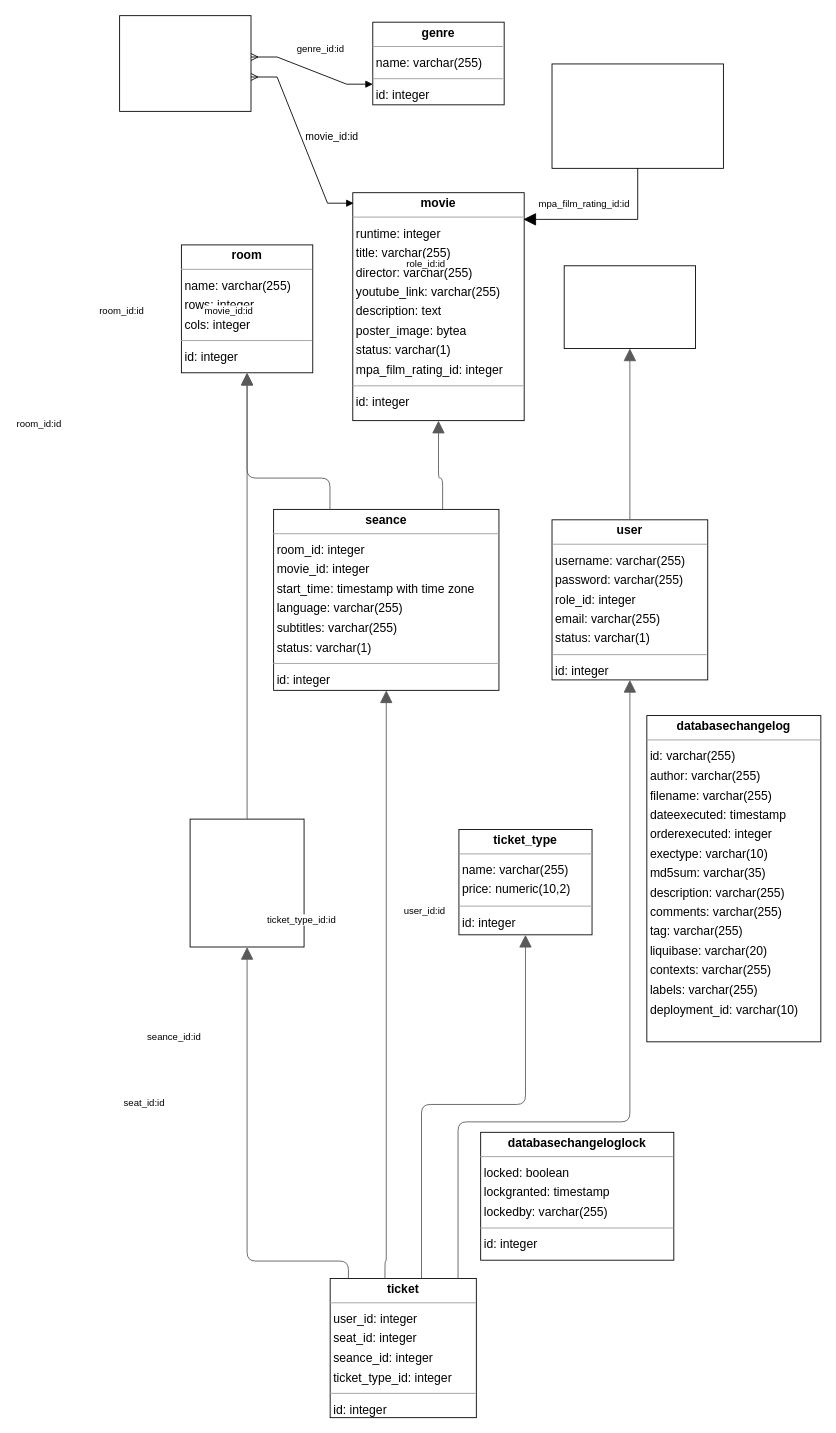
The diagram is 836 pixels wide and 1433 high, and some of its shapes have lost their labels. Each missing label, with the centre of its shape:
"movie_genre genre_id: integer movie_id: integer id: integer" belongs at [185,63].
"mpa_film_rating rating_symbol: varchar(10) meaning: text id: integer" belongs at [637,115].
"role name: varchar(255) id: integer" belongs at [629,306].
"seat room_id: integer col: integer row: integer id: integer" belongs at [246,882].
